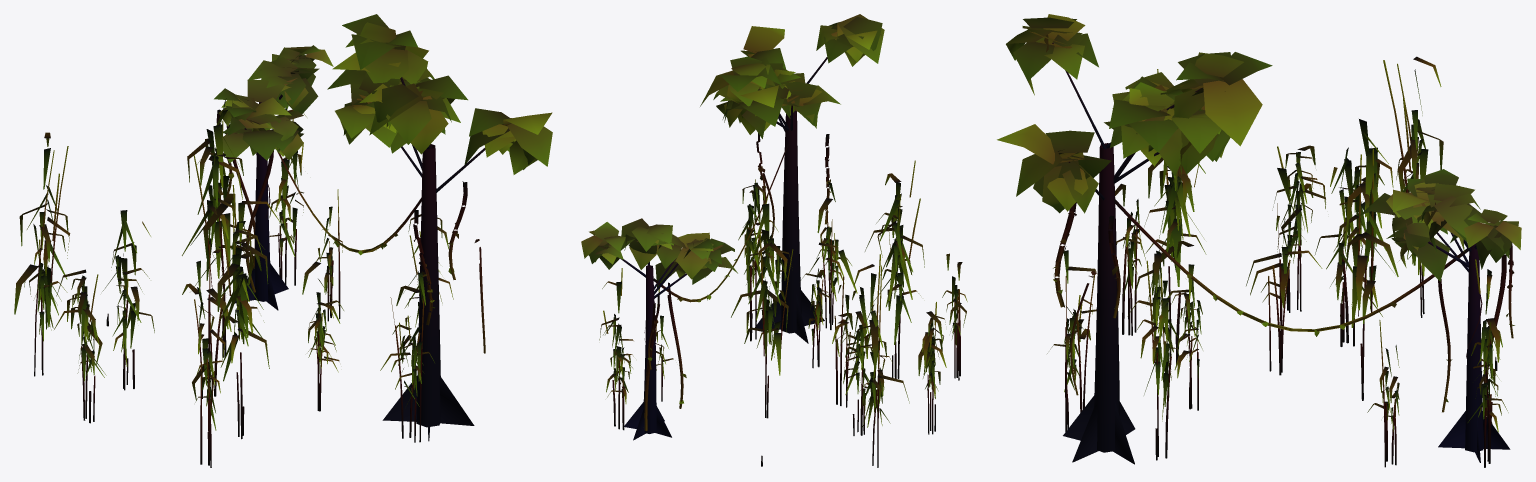
Rendered from patch_bamboo_grove_far.glb.
The picture shows the model from 3 angles, left to right: view 1: azimuth 30°, elevation 25°; view 2: azimuth 150°, elevation 25°; view 3: azimuth 270°, elevation 25°; orthographic projection. The views are drawn at different scales.
Parts seen in each view (by area): view 1: patch_bamboo_grove_far; view 2: patch_bamboo_grove_far; view 3: patch_bamboo_grove_far.
Part boxes in pixels (bbox=[...]): patch_bamboo_grove_far: bbox=[14, 14, 552, 467]; patch_bamboo_grove_far: bbox=[581, 14, 967, 467]; patch_bamboo_grove_far: bbox=[997, 14, 1521, 467].
Size of the model in its own units: 13.65 by 12.63 by 15.22.
1 material, 1 textured.
